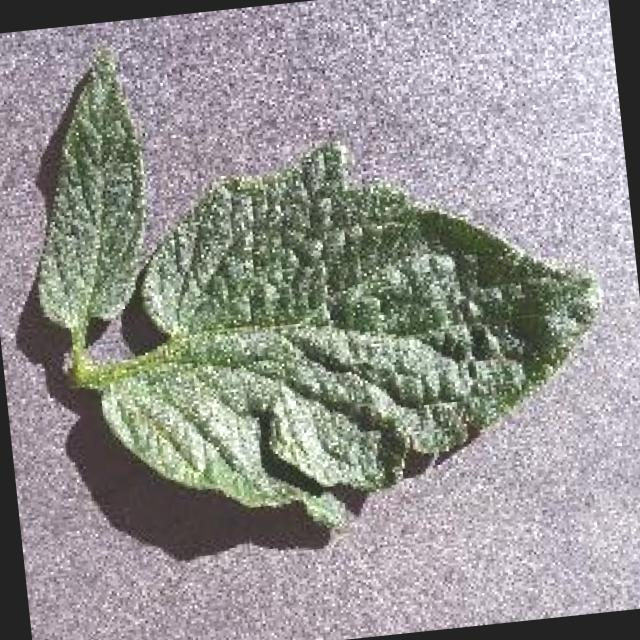healthy: (30, 58, 600, 524)
